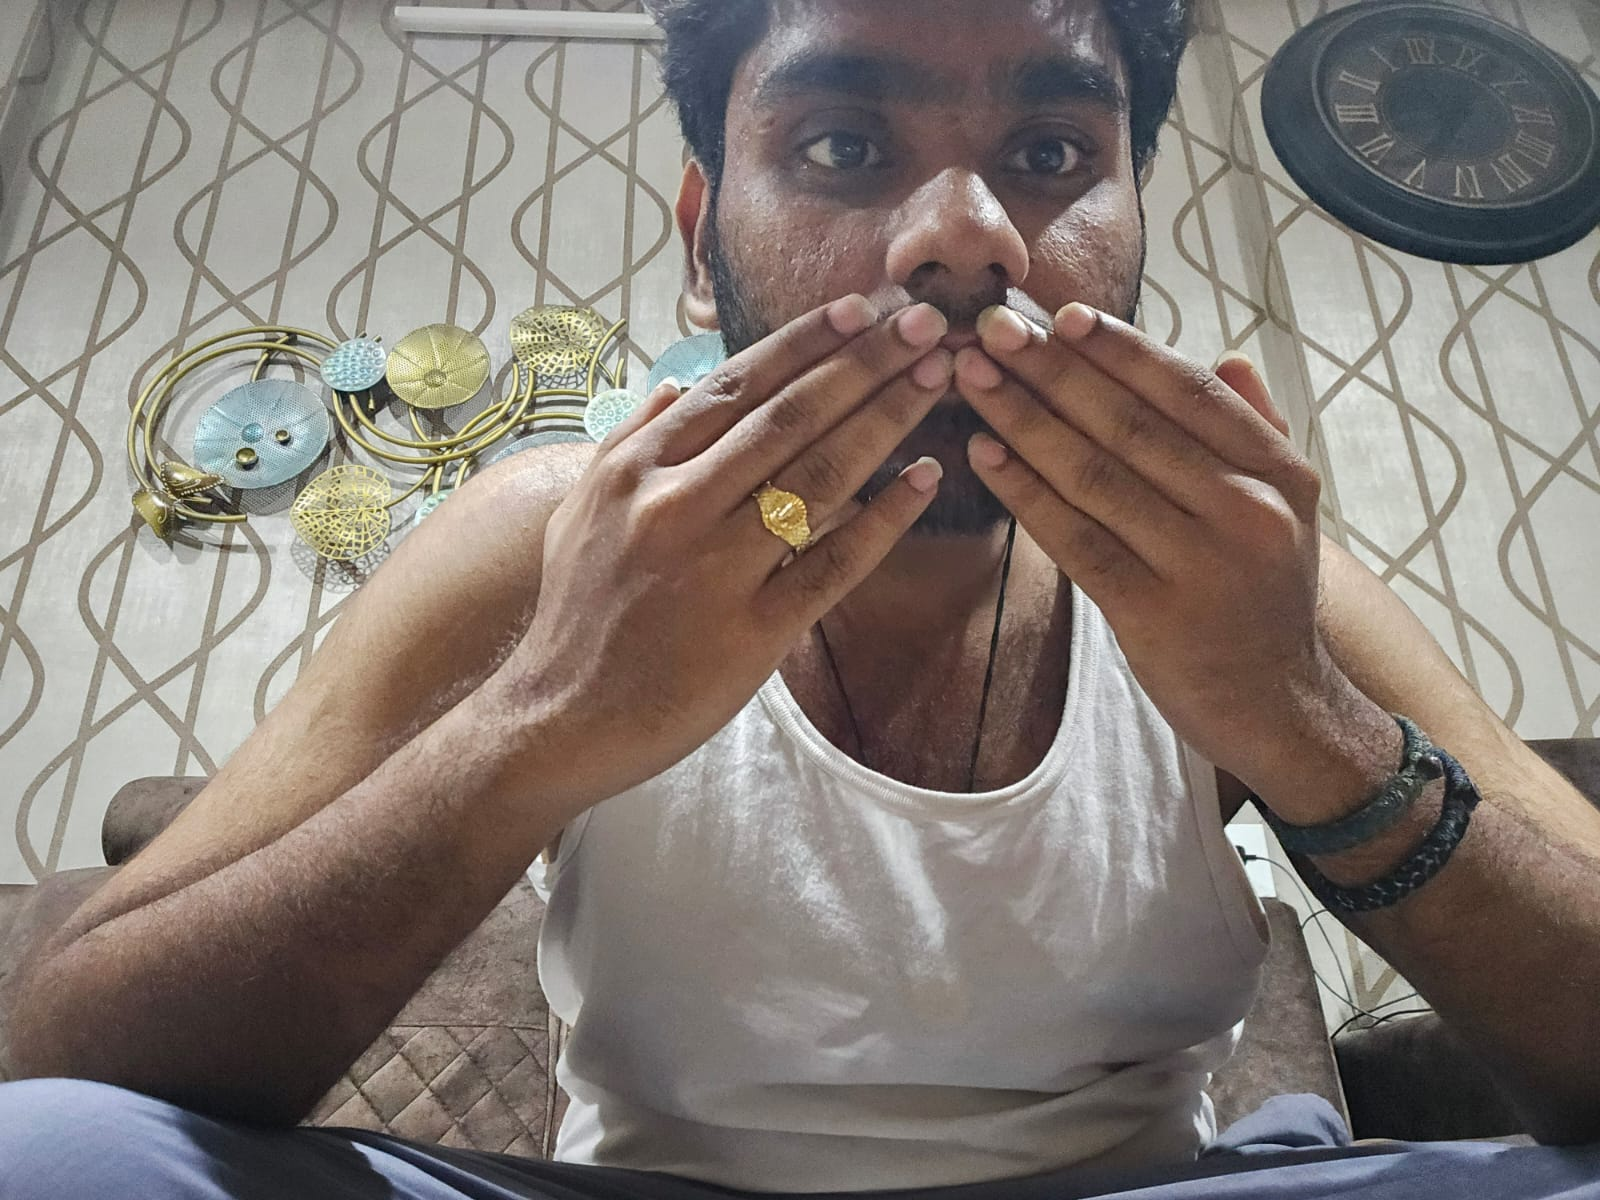thank you: (532, 292, 1322, 763)
